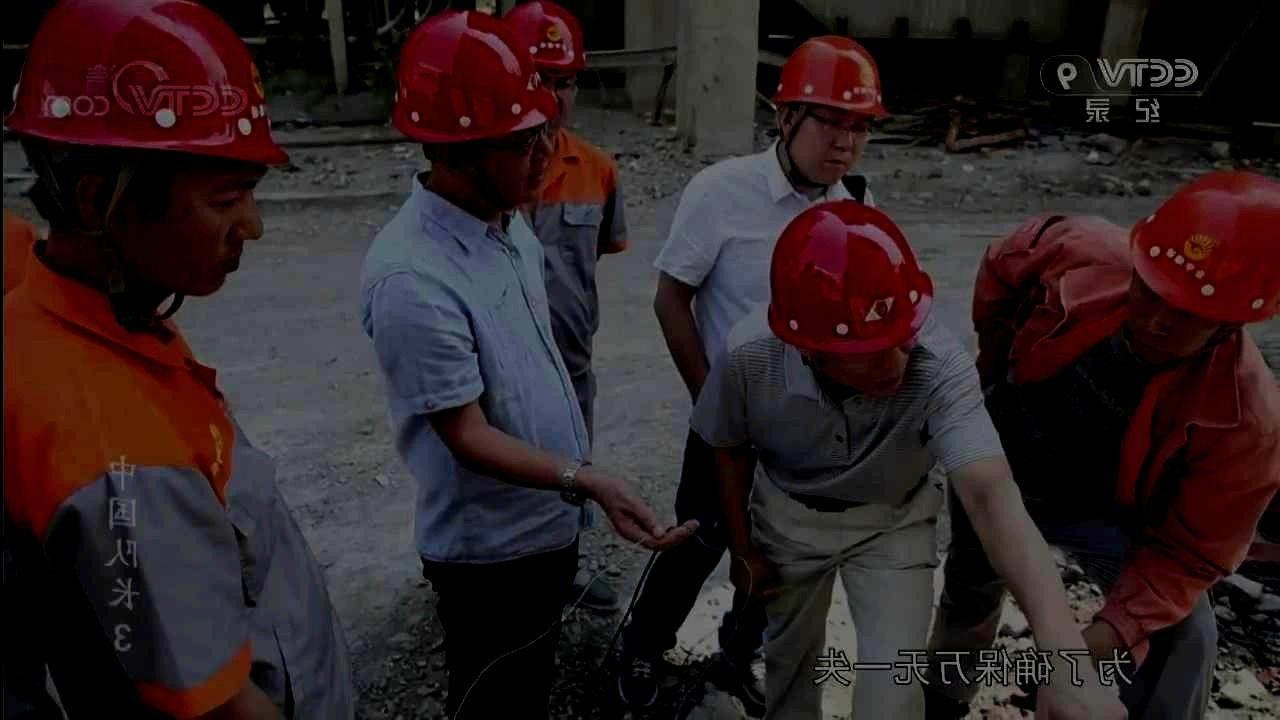helmet: (3, 1, 291, 297), (391, 7, 562, 206), (767, 197, 935, 397), (1127, 169, 1280, 362), (771, 34, 890, 188), (503, 1, 588, 128)
